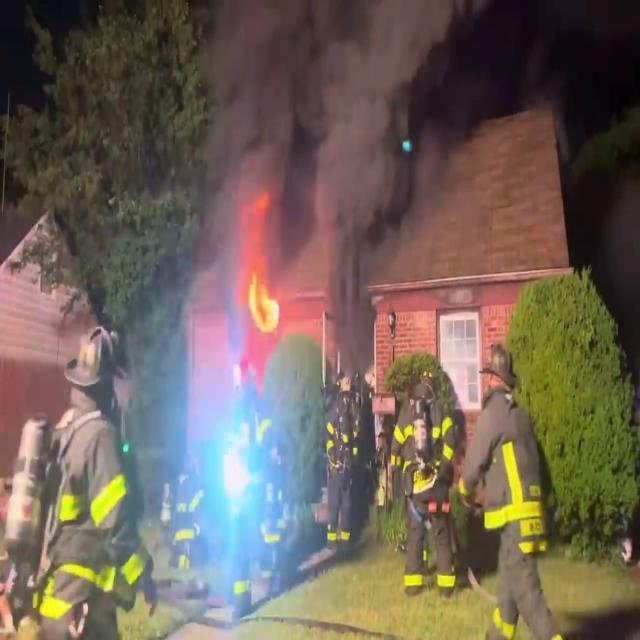Fire: (238, 190, 284, 352), (237, 238, 281, 356)
Smoke: (179, 0, 443, 250)
